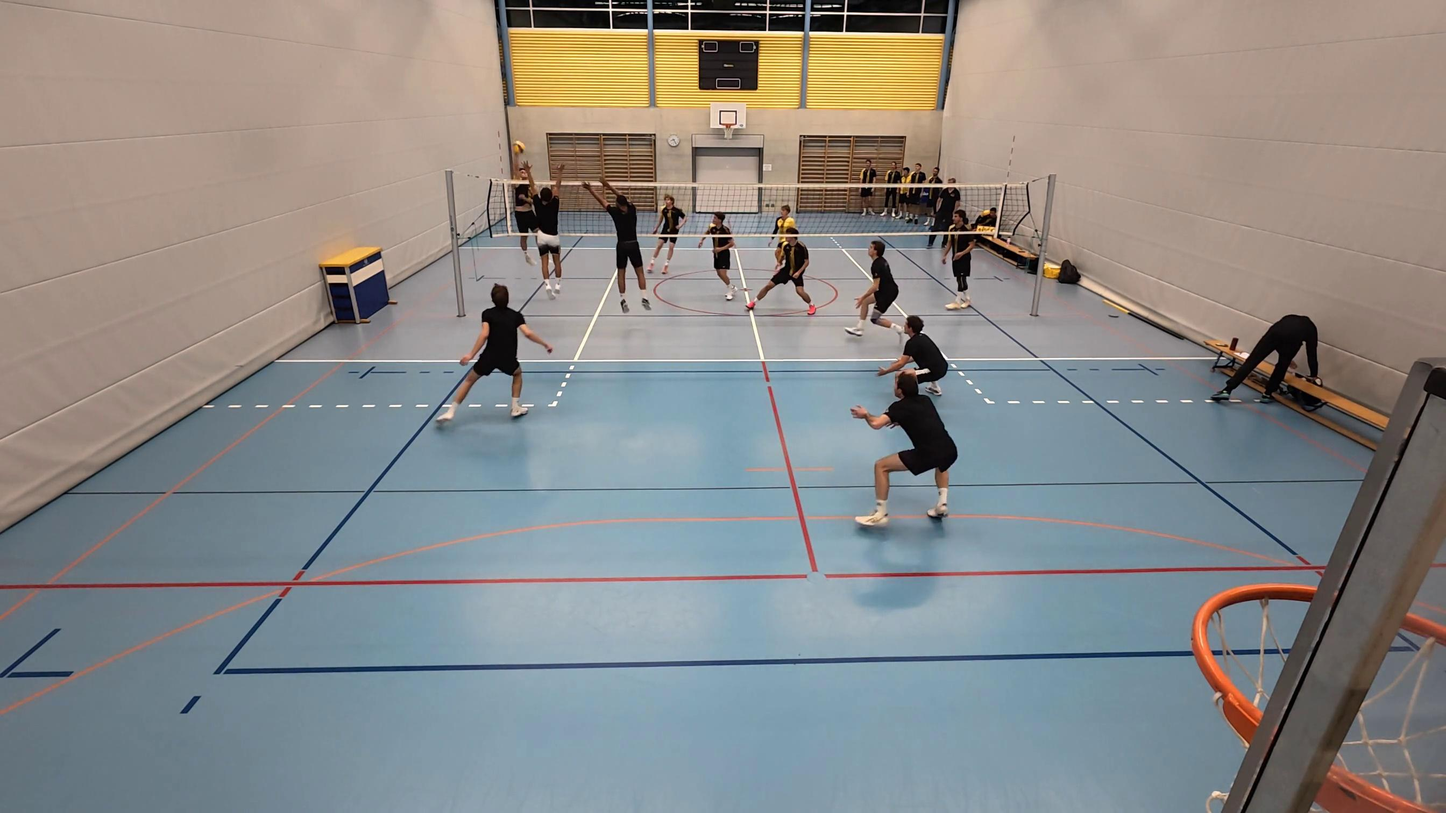attacco: (505, 153, 543, 277)
muro: (583, 172, 653, 313), (526, 163, 568, 300)
